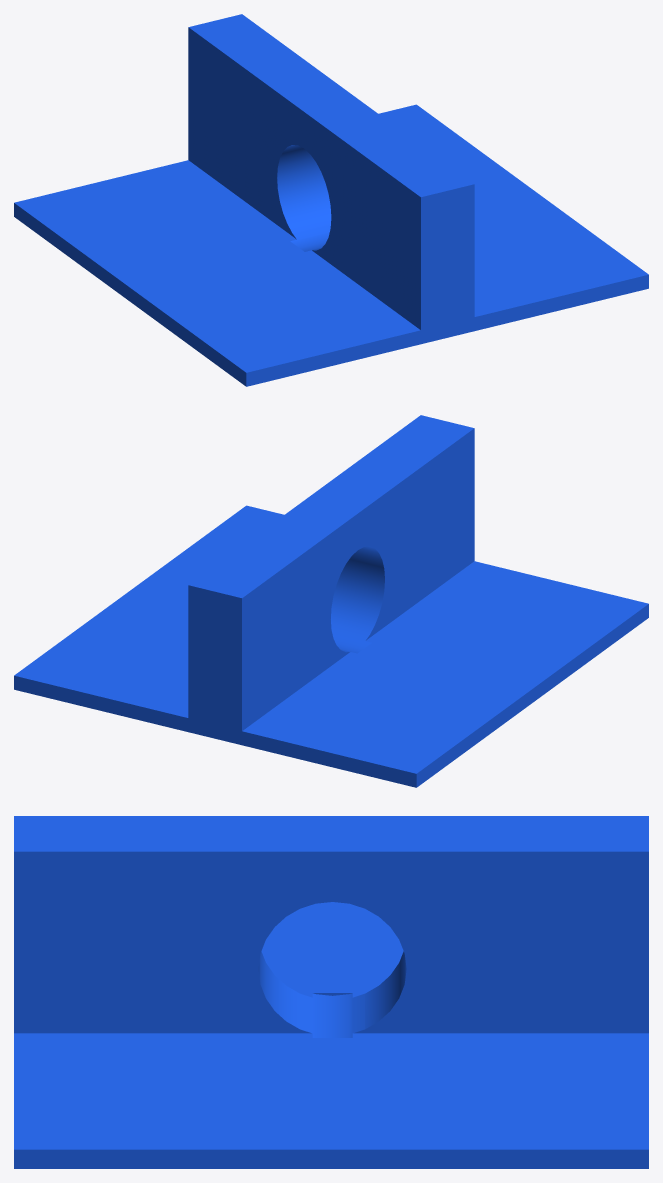
The model's file is Hola1.fbx.
3 views of the same model, one above another, from view 1: azimuth 30°, elevation 25°; view 2: azimuth 150°, elevation 25°; view 3: azimuth 270°, elevation 25° (orthographic). The views are drawn at different scales.
Parts seen in each view (by area): view 1: Box001; view 2: Box001; view 3: Box001.
Boxes of the visible parts, <box> form: Box001: <box>14,14,648,386</box>; Box001: <box>14,415,648,787</box>; Box001: <box>14,816,648,1168</box>.
Size of the model in its own units: 236 by 82.44 by 236.
